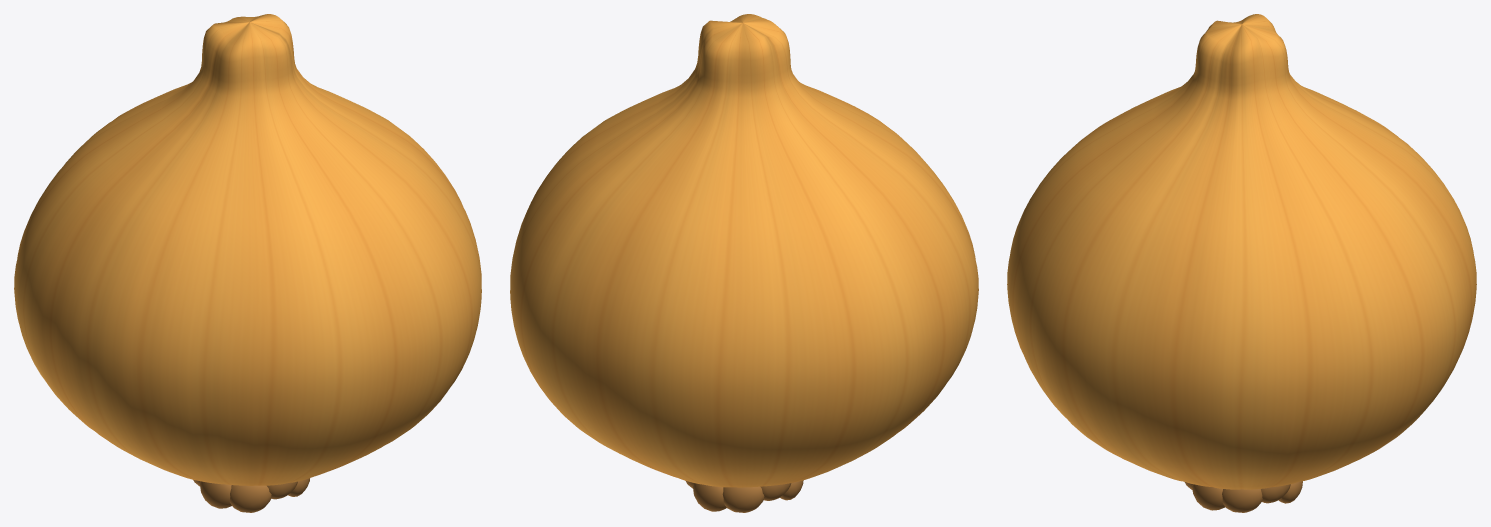
The model's file is OnionRaw.fbx.
3 views of the same model, side by side, from view 1: azimuth 30°, elevation 25°; view 2: azimuth 150°, elevation 25°; view 3: azimuth 270°, elevation 25° (orthographic).
Parts seen in each view (by area): view 1: MAT_OnionReferenceSkin Geometry, MAT_OnionReferenceRoot Geometry; view 2: MAT_OnionReferenceSkin Geometry, MAT_OnionReferenceRoot Geometry; view 3: MAT_OnionReferenceSkin Geometry, MAT_OnionReferenceRoot Geometry.
Boxes of the visible parts, x1,y1,x2,y2 form: MAT_OnionReferenceSkin Geometry: (14, 14, 481, 485); MAT_OnionReferenceRoot Geometry: (193, 478, 309, 512); MAT_OnionReferenceSkin Geometry: (510, 14, 978, 487); MAT_OnionReferenceRoot Geometry: (685, 480, 803, 512); MAT_OnionReferenceSkin Geometry: (1007, 14, 1476, 489); MAT_OnionReferenceRoot Geometry: (1184, 481, 1302, 512).
Bounding box in the file's own units: 84.7 × 94.44 × 84.96.
